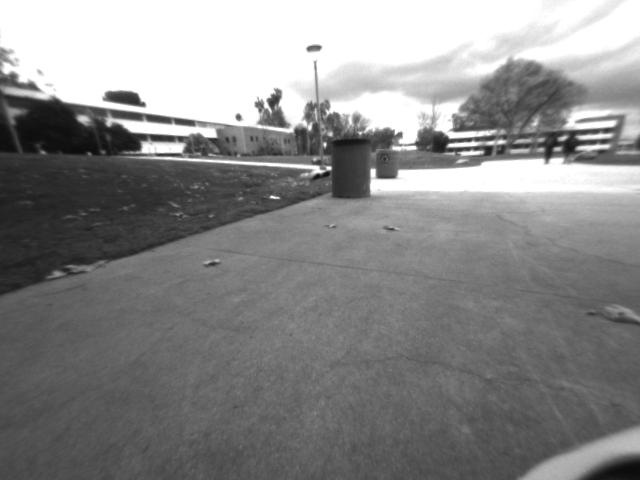trashcan: (330, 136, 372, 201), (376, 146, 399, 180)
